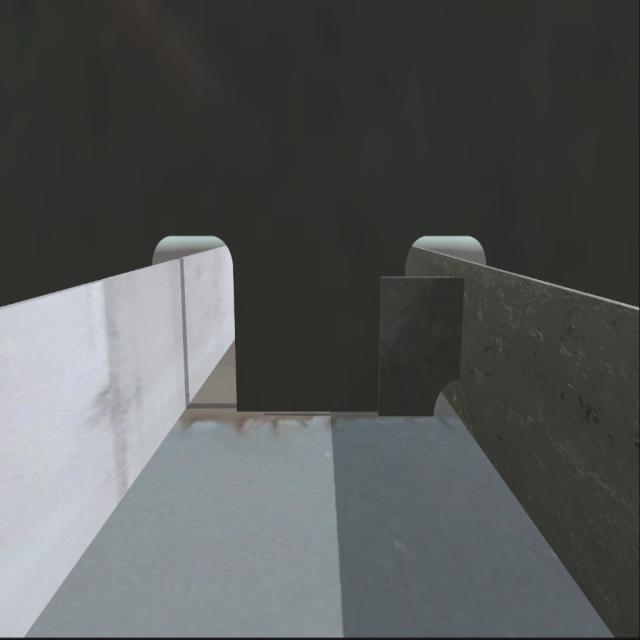fillet_hole: (431, 385, 459, 416)
fillet_yong_jeop_jang: (234, 399, 434, 425)
longi_yong_jeop_jang: (448, 274, 471, 386)
plate_CP01: (376, 278, 464, 421)
